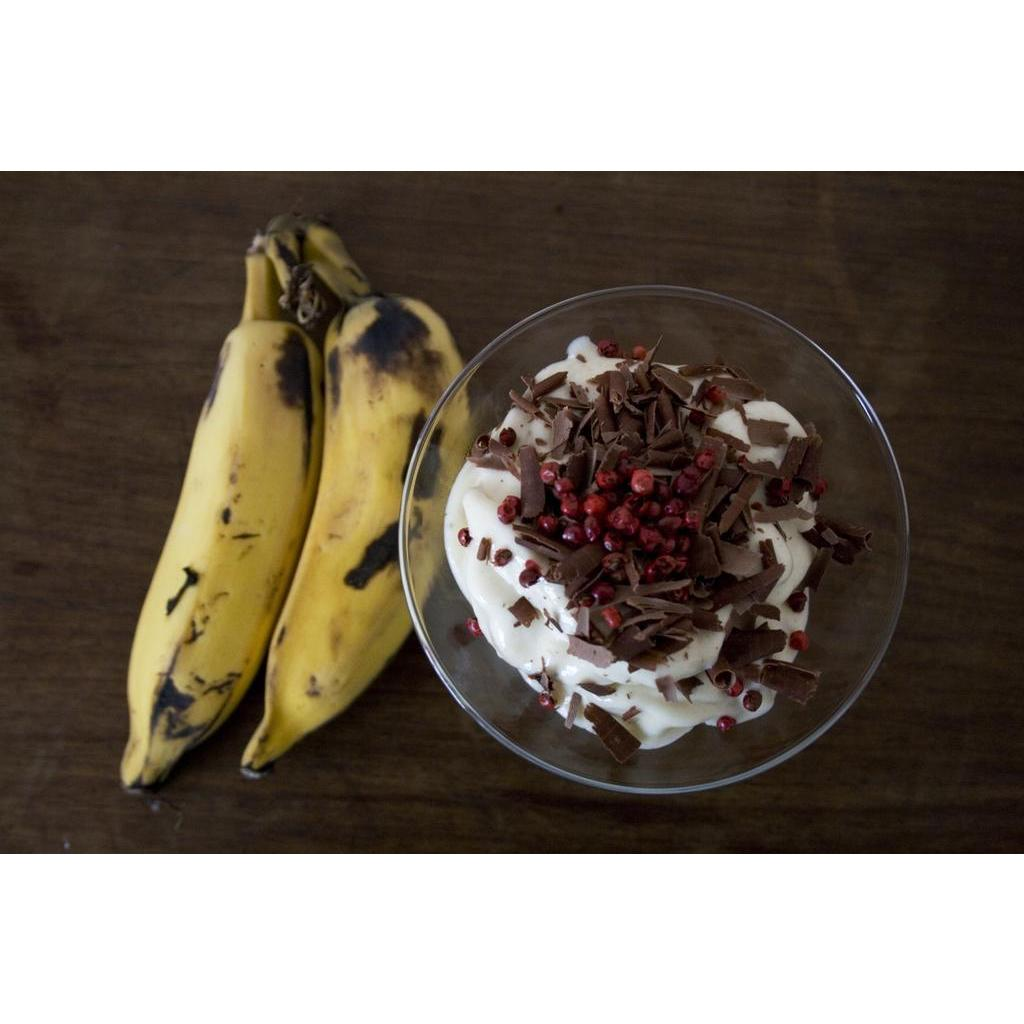banana: (241, 269, 466, 777), (120, 253, 323, 788)
